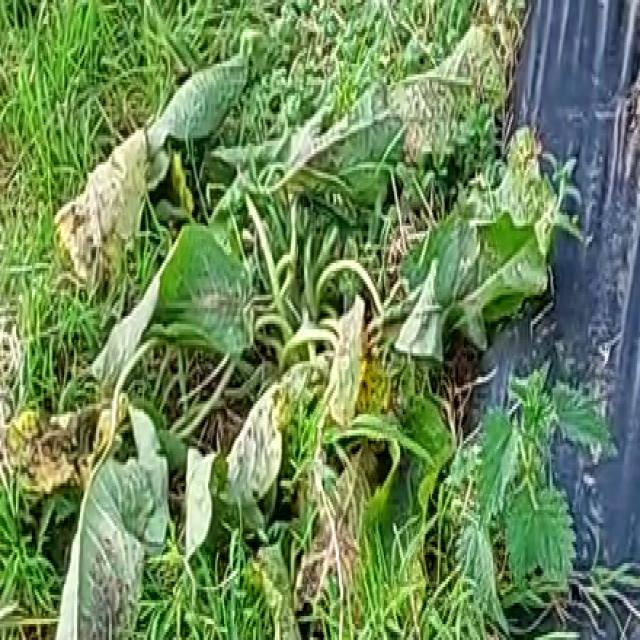organic waste: (39, 26, 548, 634)
